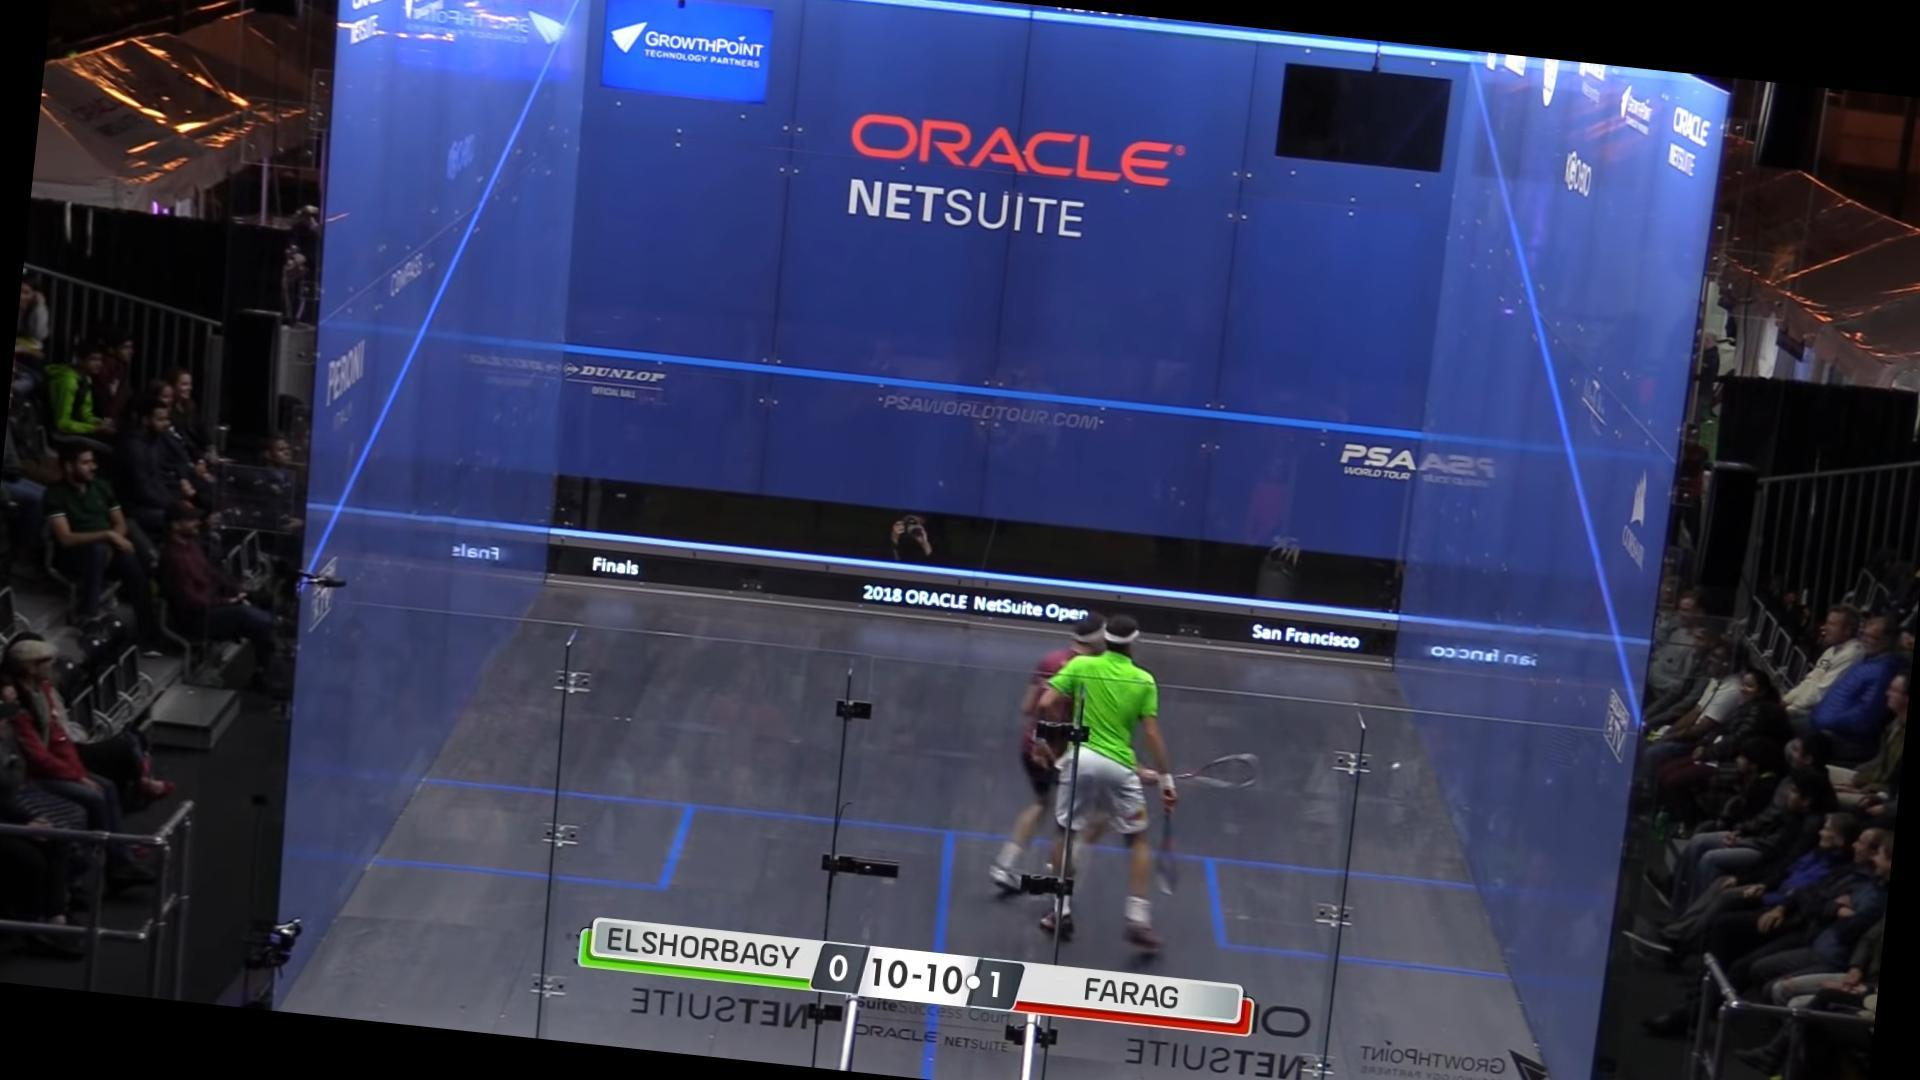Squash-Ball: (1379, 750, 1418, 779)
